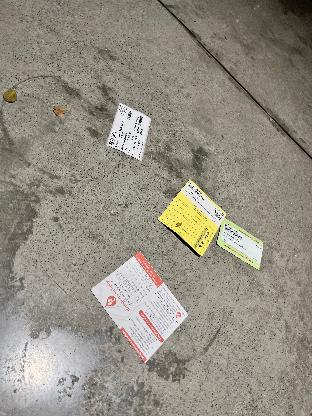Paper: (82, 253, 190, 363), (158, 180, 228, 258)
